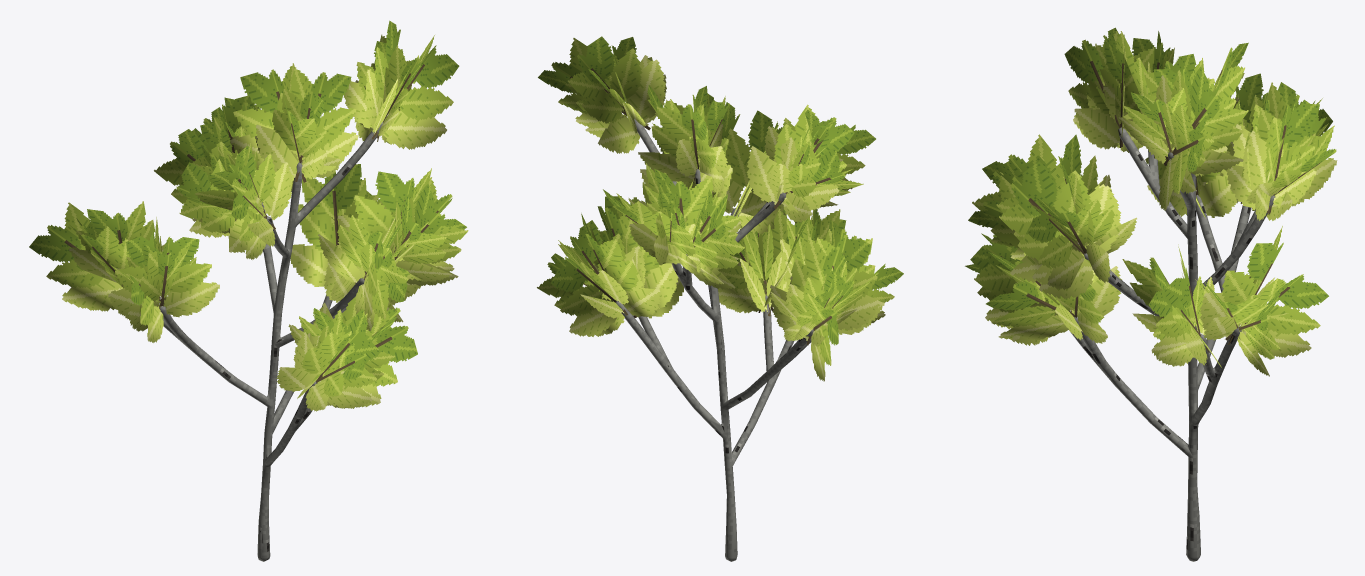
The model's file is environment_elmsapling4_v9.fbx.
The picture shows the model from 3 angles, left to right: view 1: azimuth 30°, elevation 25°; view 2: azimuth 150°, elevation 25°; view 3: azimuth 270°, elevation 25°; orthographic projection. The views are drawn at different scales.
Parts seen in each view (by area): view 1: environment_elmsapling4_v9_leaves, environment_elmsapling4_v9_wood; view 2: environment_elmsapling4_v9_leaves, environment_elmsapling4_v9_wood; view 3: environment_elmsapling4_v9_leaves, environment_elmsapling4_v9_wood.
Boxes of the visible parts, x1,y1,x2,y2 form: environment_elmsapling4_v9_leaves: (29, 20, 468, 411); environment_elmsapling4_v9_wood: (159, 122, 383, 561); environment_elmsapling4_v9_leaves: (537, 36, 903, 381); environment_elmsapling4_v9_wood: (616, 119, 813, 561); environment_elmsapling4_v9_leaves: (965, 27, 1337, 376); environment_elmsapling4_v9_wood: (1069, 127, 1275, 561).
Size of the model in its own units: 158 by 201 by 126.
2 materials, 2 textured.
